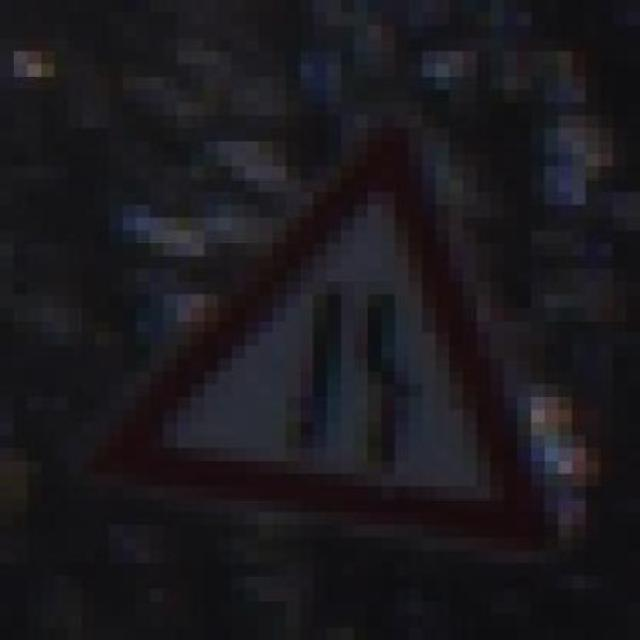-Road narrows on right: (82, 102, 586, 550)
